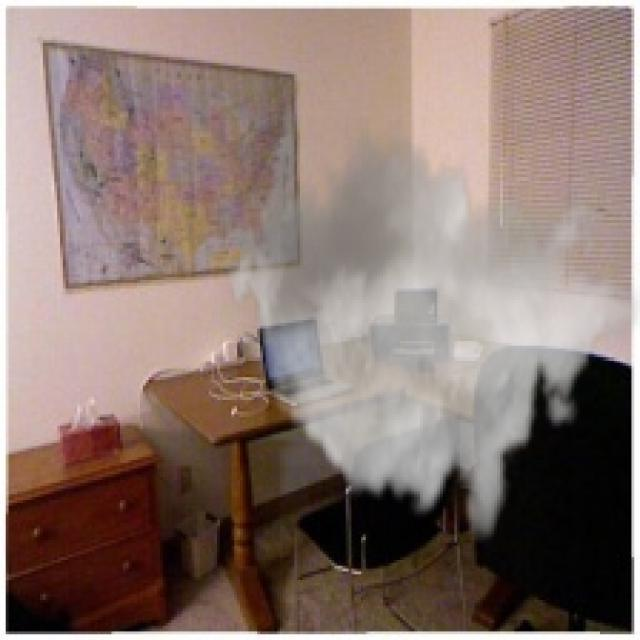Smoke: (222, 117, 638, 546)
